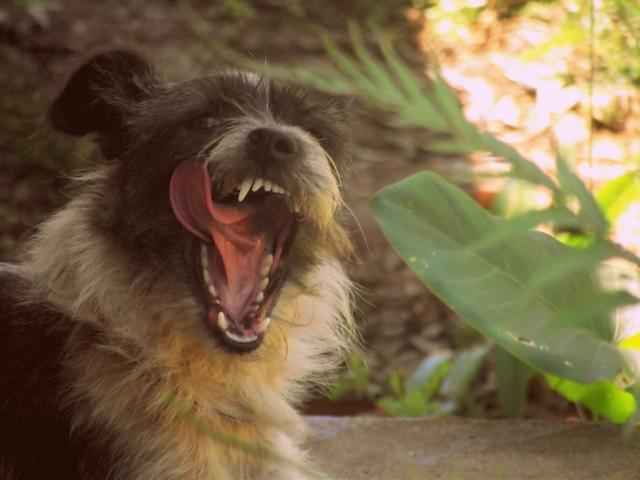Dog: (0, 40, 375, 480)
